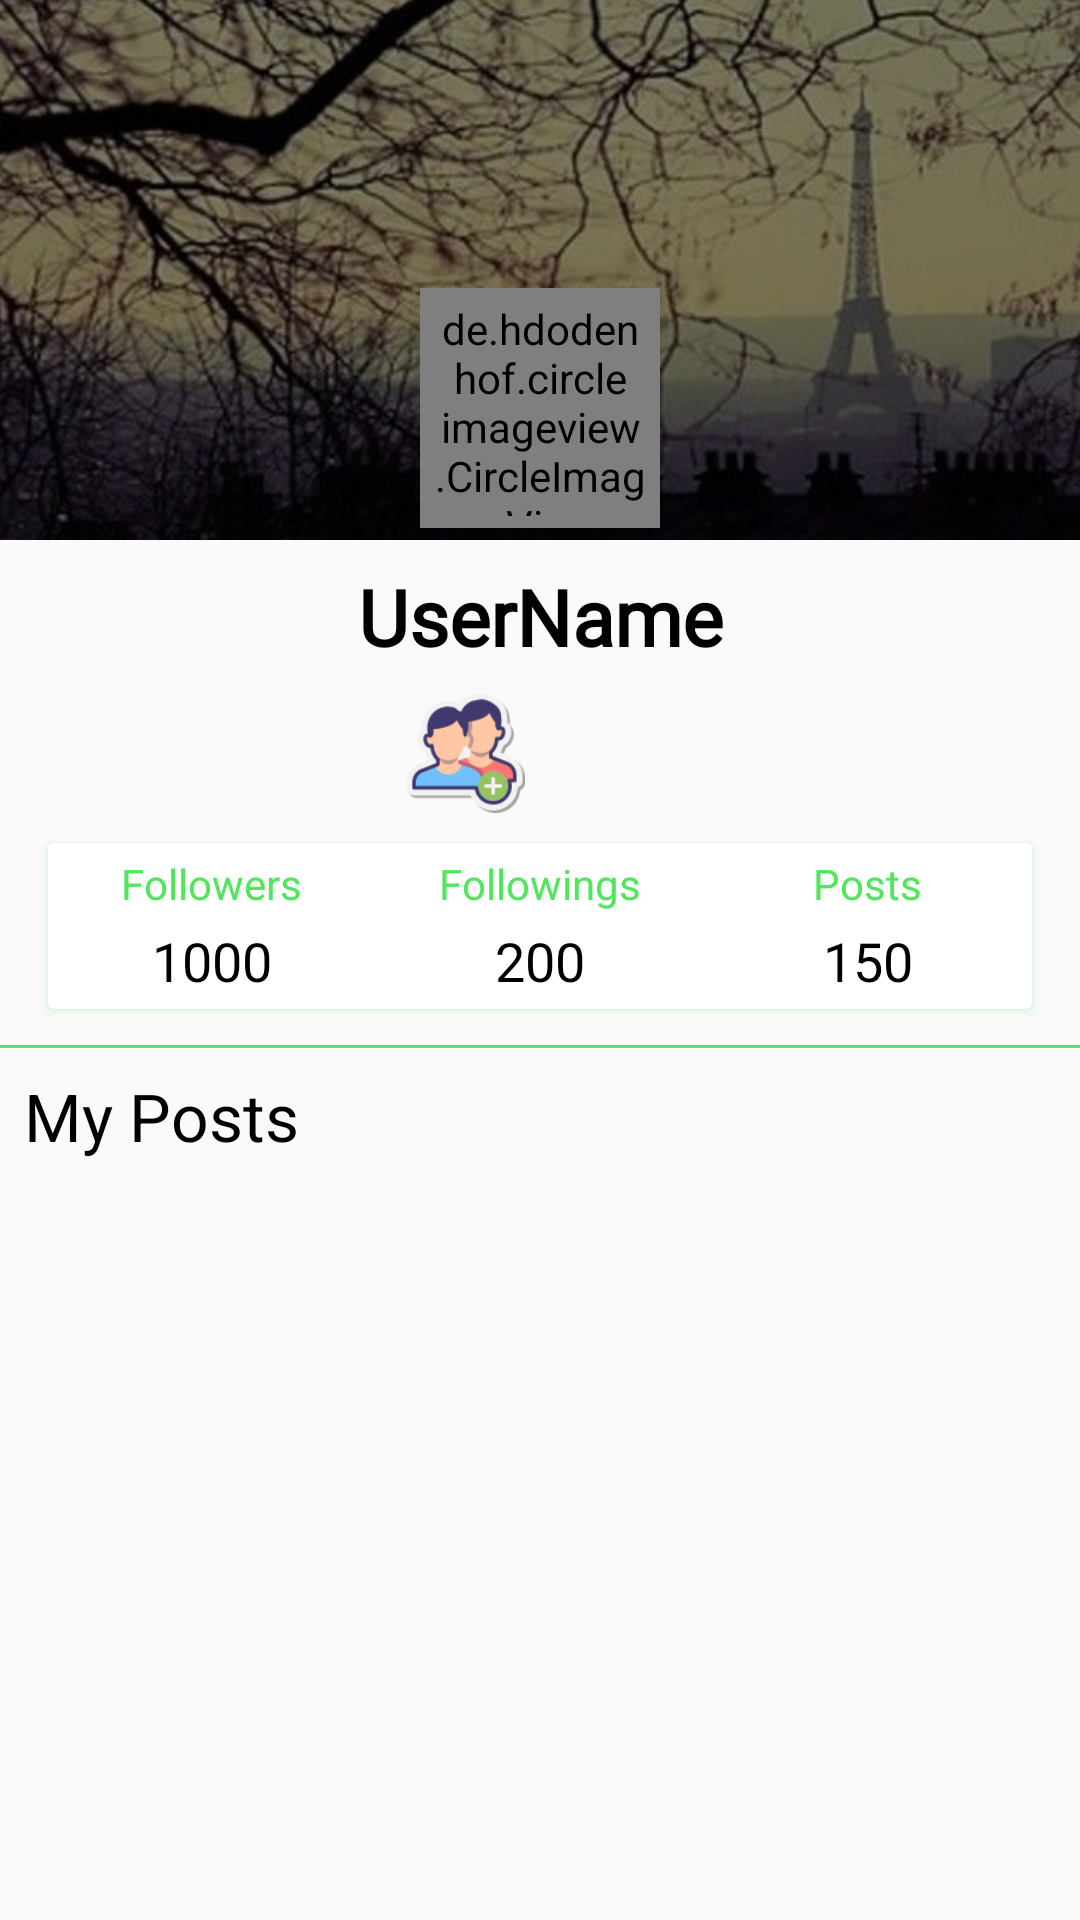

Locate icon controls on the screen. Image size 1080 × 1920, boxes as bbox=[x1, y1, x2, y2].
add friends: bbox=[410, 699, 525, 813]
